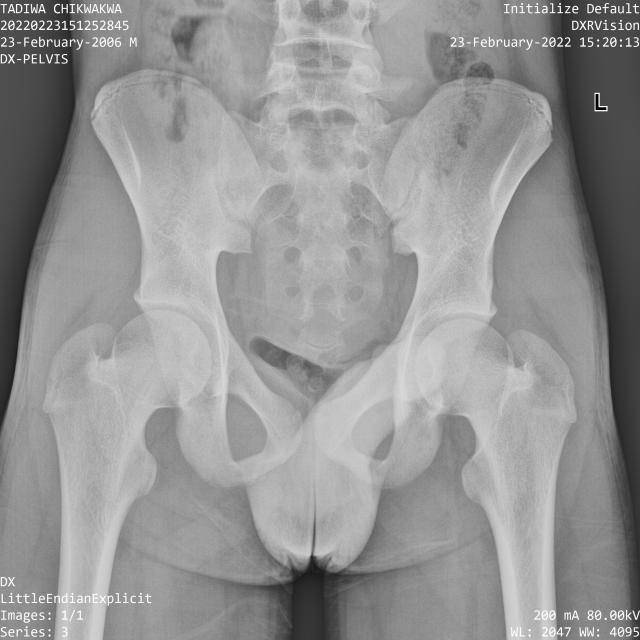normal-left: (415, 318, 577, 577)
normal-right: (43, 310, 211, 588)
